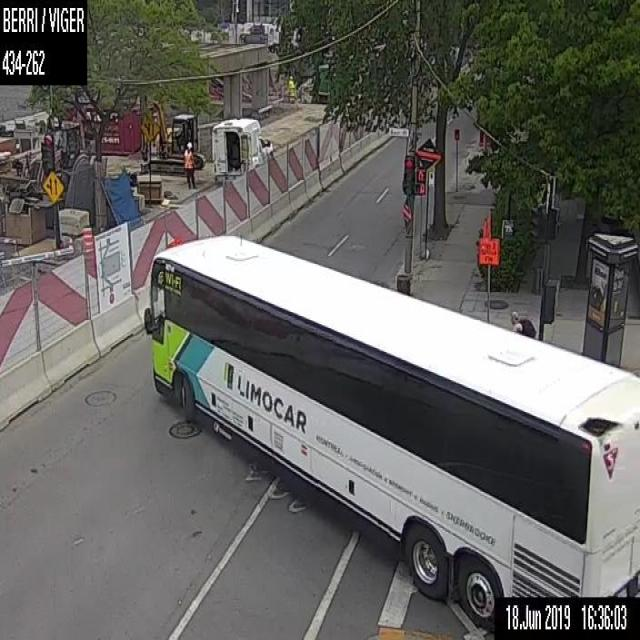bus: (143, 232, 639, 631)
construction: (0, 0, 419, 428), (476, 235, 499, 324), (82, 223, 94, 253)
cyclist: (509, 309, 536, 337)
pedestrian: (182, 140, 197, 188), (287, 73, 294, 100)
vehicle: (208, 114, 270, 184)
